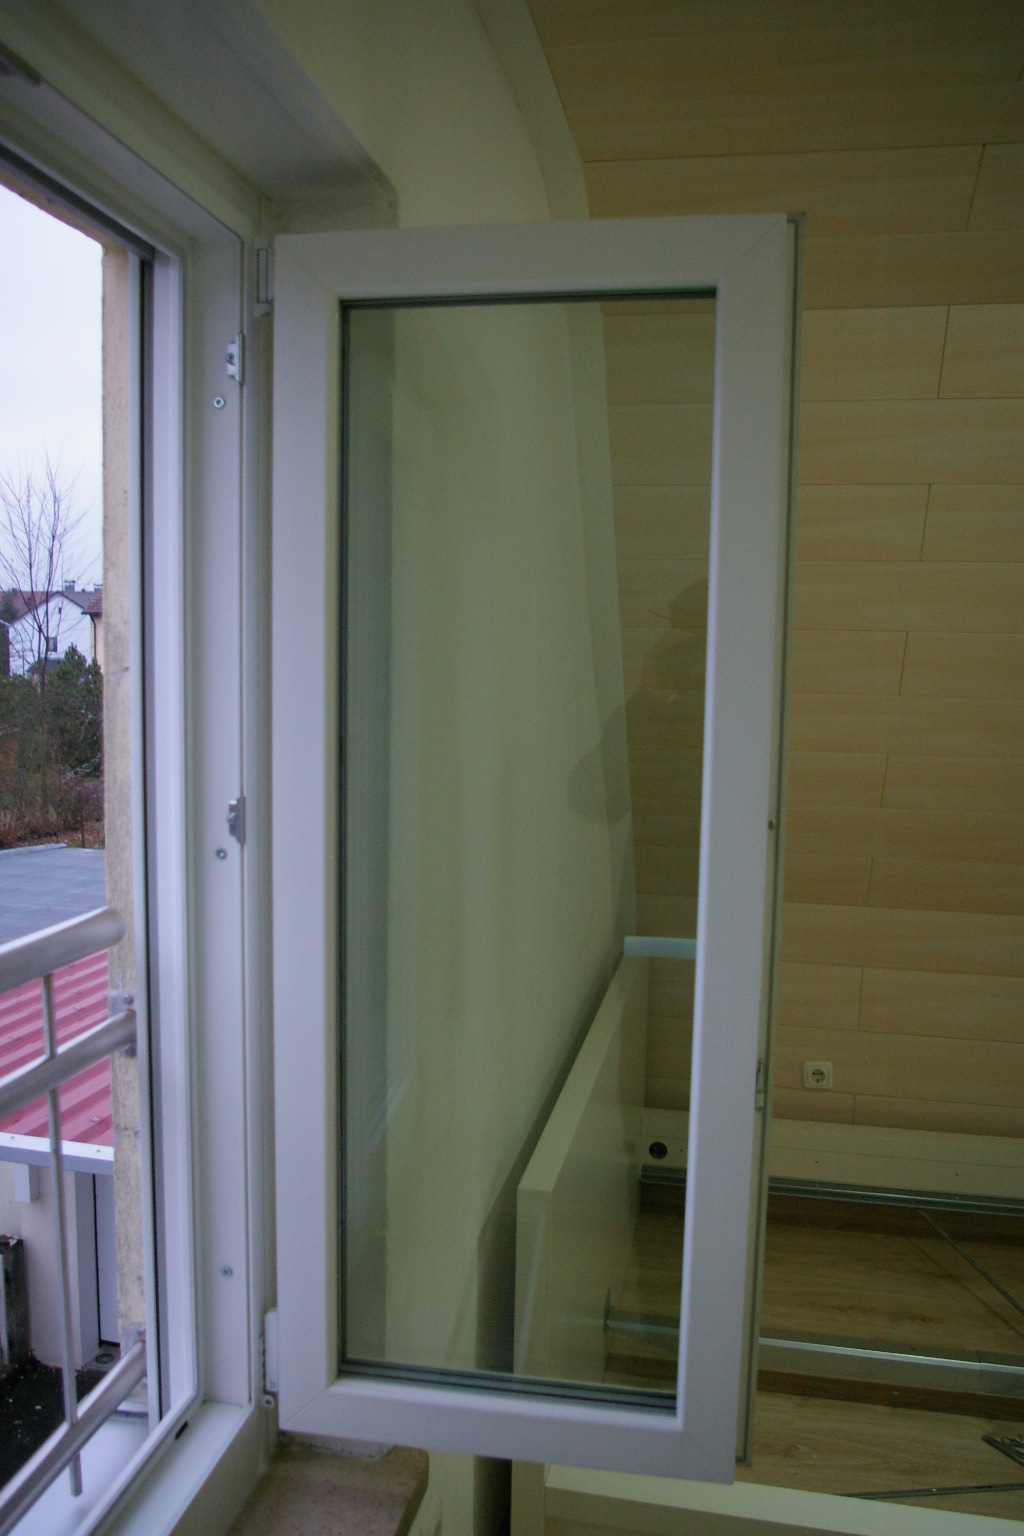windows: (234, 227, 755, 1463)
